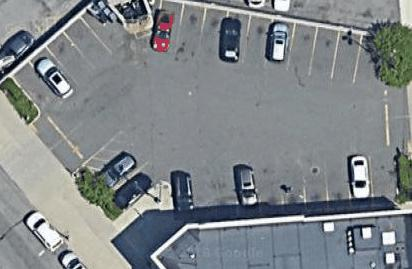parkingspot: (149, 0, 364, 87), (170, 152, 403, 222), (10, 0, 137, 116), (92, 139, 167, 213)
